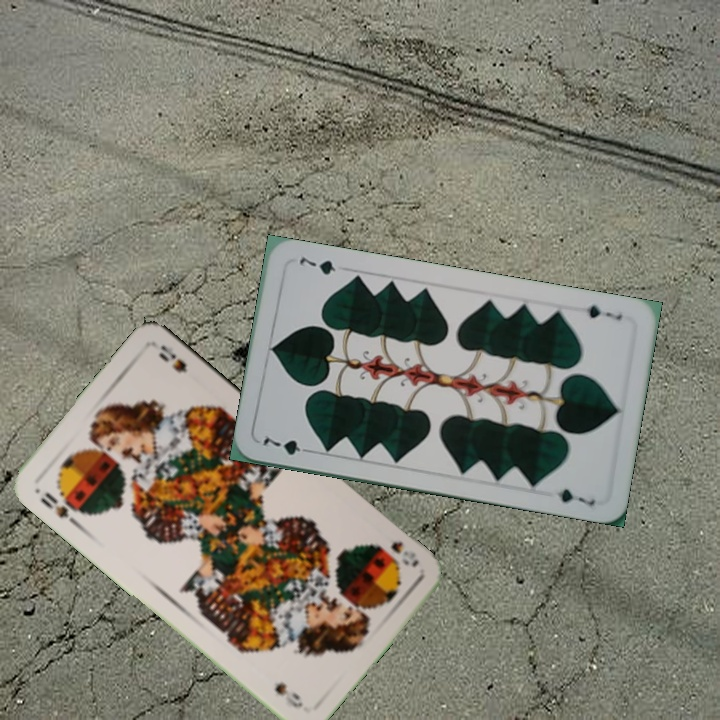G7: (259, 433, 316, 458), (582, 300, 625, 322)
SO: (36, 488, 86, 521), (387, 537, 422, 570)
